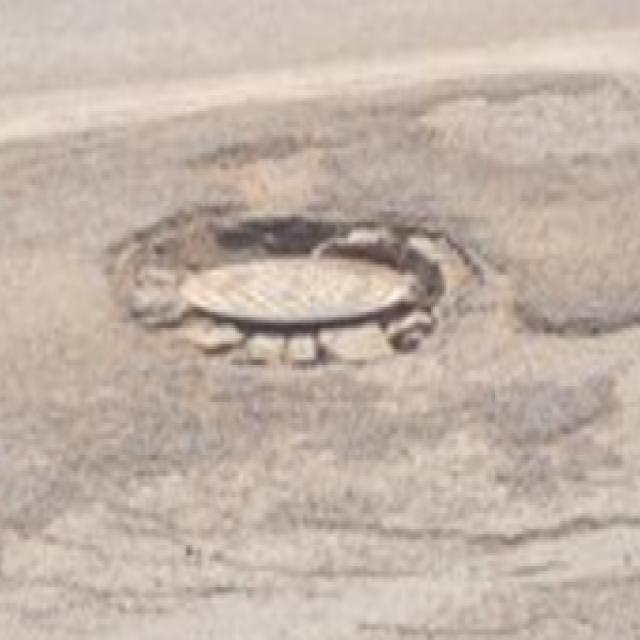manhole: (130, 216, 445, 357)
